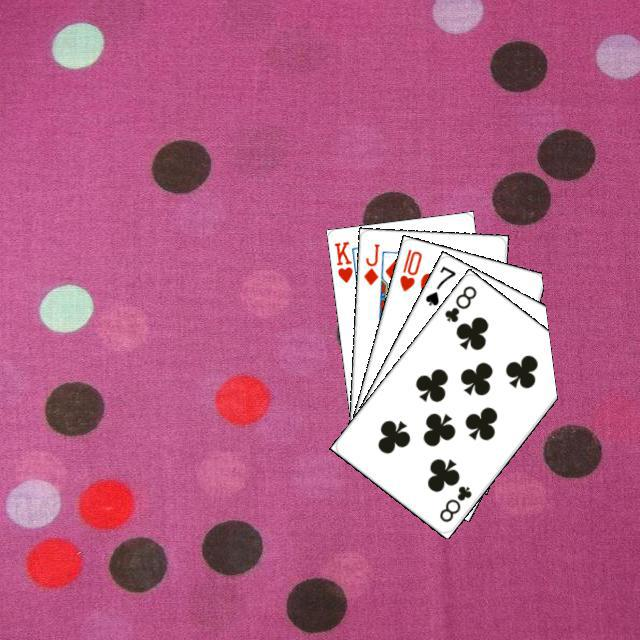10h: (395, 244, 424, 293)
7s: (420, 261, 457, 308)
8c: (434, 481, 474, 524), (439, 280, 478, 324)
Jd: (359, 239, 381, 287)
Kh: (329, 236, 360, 287)
